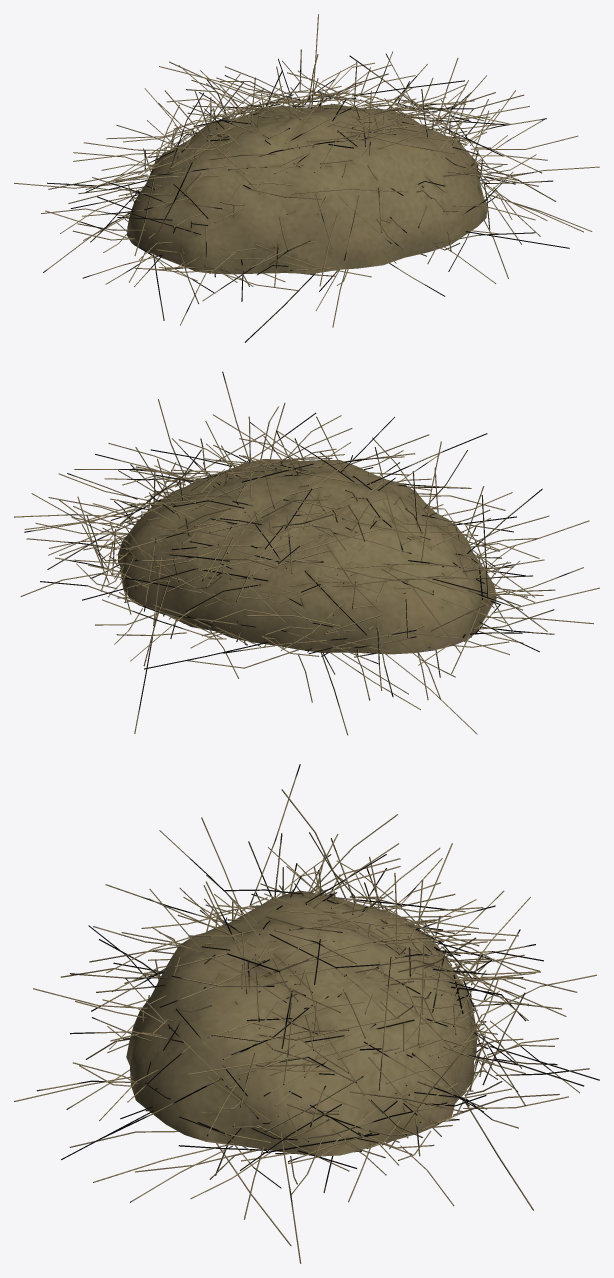
The model's file is hay_pile.glb.
3 views of the same model, one above another, from view 1: azimuth 30°, elevation 25°; view 2: azimuth 150°, elevation 25°; view 3: azimuth 270°, elevation 25° (orthographic). The views are drawn at different scales.
Visible parts, largest first — view 1: hay_pile; view 2: hay_pile; view 3: hay_pile.
Boxes of the visible parts, x1,y1,x2,y2 form: hay_pile: (14, 14, 599, 342); hay_pile: (14, 371, 599, 735); hay_pile: (14, 764, 599, 1263).
Bounding box in the file's own units: 2.35 × 1.09 × 1.85.
1 material, 1 textured.
